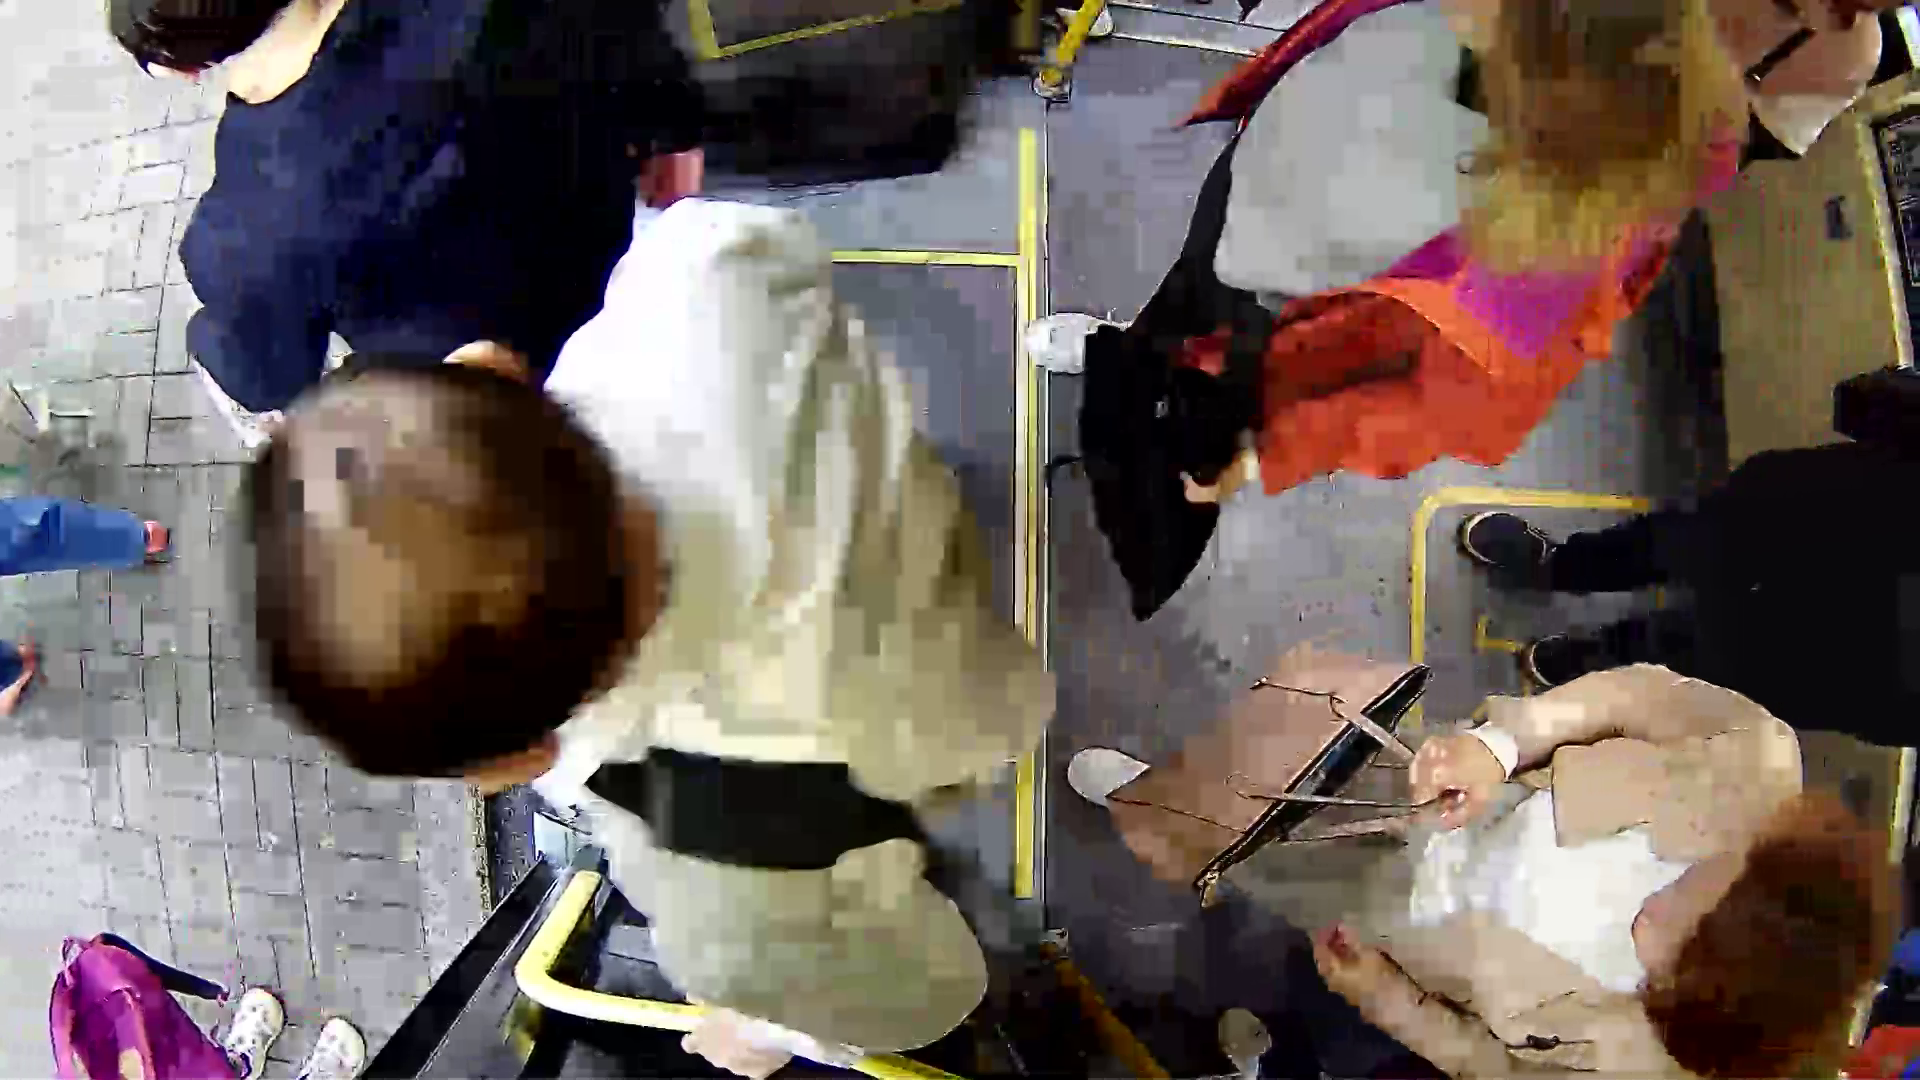person: (274, 227, 1024, 986), (1164, 1, 1725, 603), (1186, 655, 1860, 1056)
